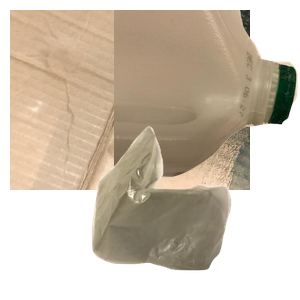cardboard: (10, 10, 250, 190)
glass: (96, 190, 230, 300)
plastic: (114, 10, 300, 179)
trash: (89, 124, 300, 300)
